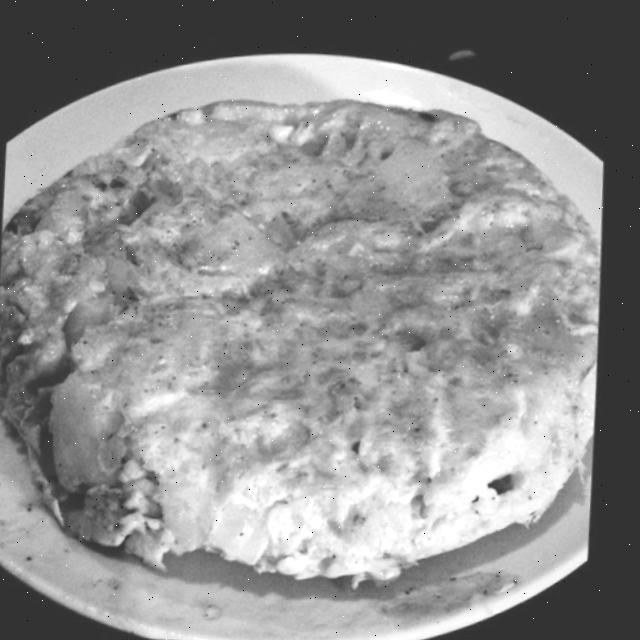面包点心: (0, 37, 622, 607)
